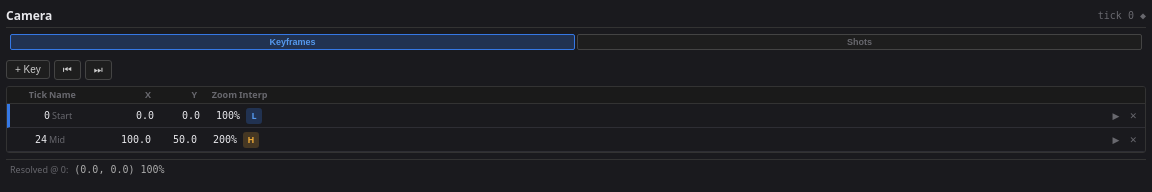
it: CameraKeyframePanel › switches to shots view and shows shot names
The width and height of the screenshot is (1152, 192).
Click the button "Shots" at (860, 42), box [577,34,1142,50]
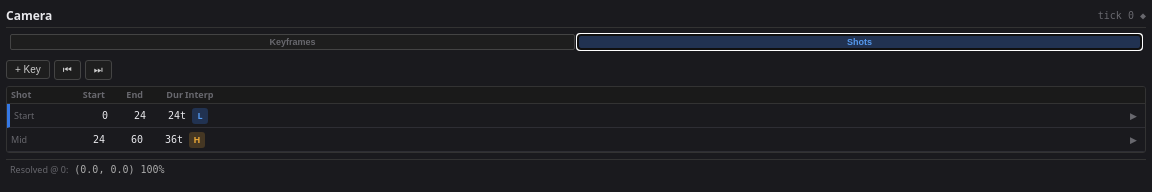
Expected: the text "Shot" is shown, [11,88,31,101]
Expected: the text "Dur" is shown, [166,88,183,101]
